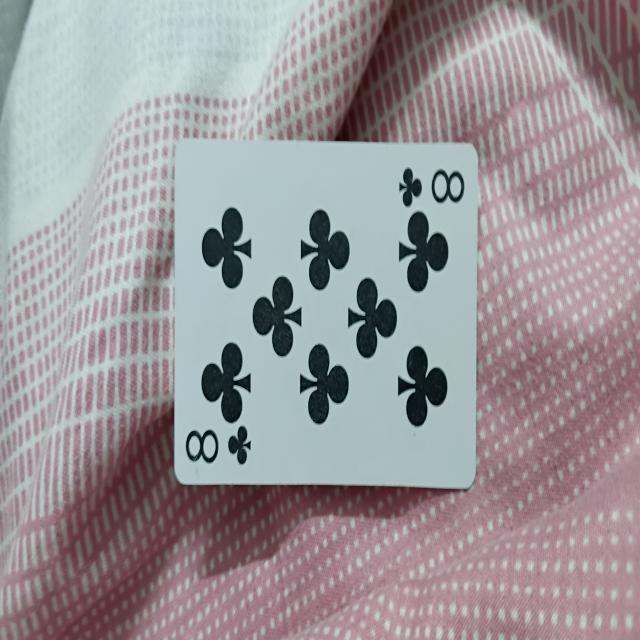8C: (174, 136, 477, 488)
